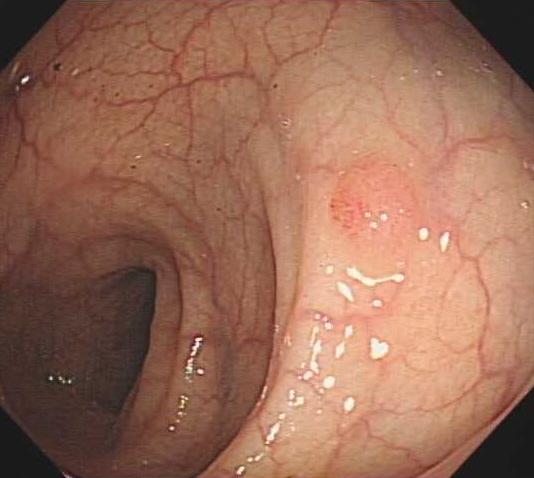adenoma: (327, 153, 424, 250)
